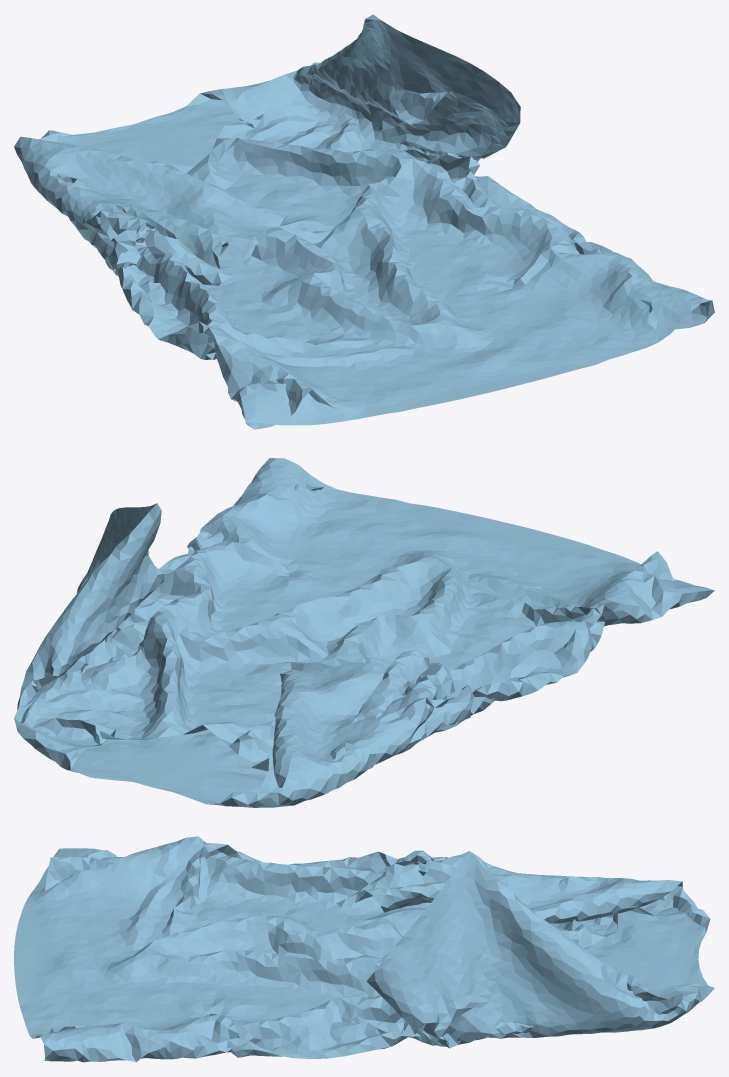
The model's file is frame_12.glb.
The picture shows the model from 3 angles, top to bottom: view 1: azimuth 30°, elevation 25°; view 2: azimuth 150°, elevation 25°; view 3: azimuth 270°, elevation 25°; orthographic projection. The views are drawn at different scales.
Visible parts, largest first — view 1: frame_12.obj; view 2: frame_12.obj; view 3: frame_12.obj.
Boxes of the visible parts, x1,y1,x2,y2 form: frame_12.obj: (14, 14, 714, 429); frame_12.obj: (14, 458, 714, 807); frame_12.obj: (14, 836, 714, 1062).
Size of the model in its own units: 1.22 by 0.447 by 1.7.
